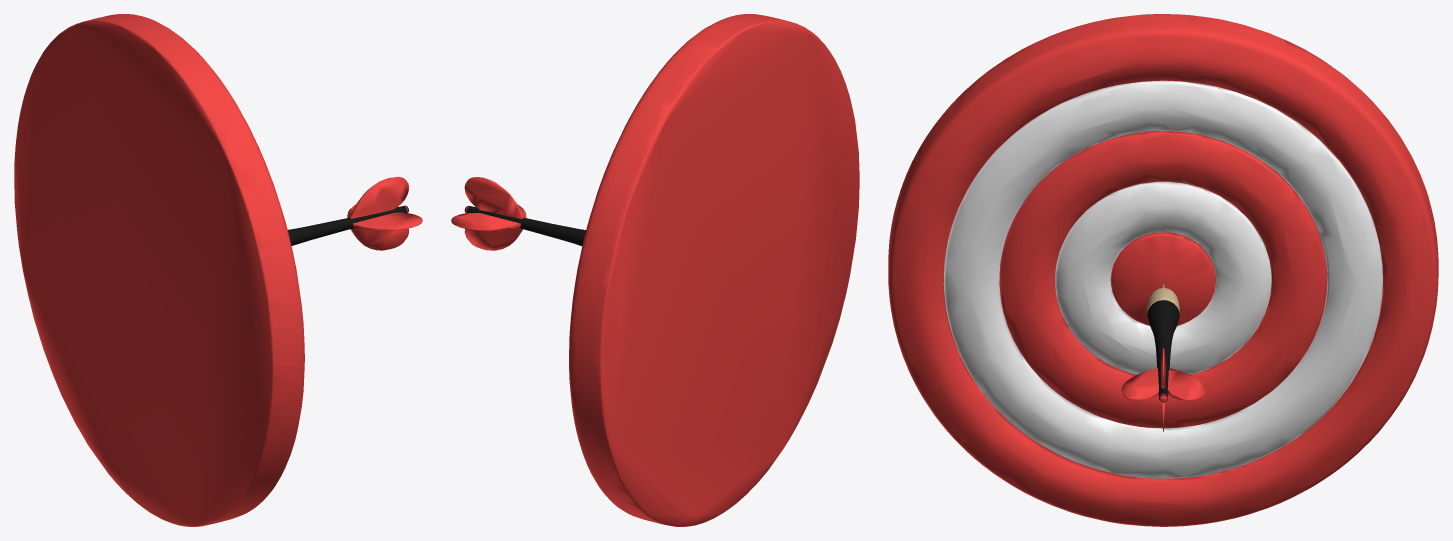
The model's file is target_board.glb.
The picture shows the model from 3 angles, left to right: view 1: azimuth 30°, elevation 25°; view 2: azimuth 150°, elevation 25°; view 3: azimuth 270°, elevation 25°; orthographic projection. The views are drawn at different scales.
Visible parts, largest first — view 1: Cylinder_arrow red_0, Cylinder.001_Material.002_0; view 2: Cylinder_arrow red_0, Cylinder.001_Material.002_0; view 3: Cylinder_arrow red_0, Cylinder_target white_0, Cylinder.001_Material.002_0.
Part boxes in pixels (box(x1,y1,x2,y2)): Cylinder_arrow red_0: box(14, 14, 422, 526); Cylinder.001_Material.002_0: box(288, 206, 408, 245); Cylinder_arrow red_0: box(451, 14, 859, 526); Cylinder.001_Material.002_0: box(465, 206, 585, 246); Cylinder_arrow red_0: box(888, 14, 1438, 526); Cylinder_target white_0: box(943, 80, 1382, 478); Cylinder.001_Material.002_0: box(1147, 300, 1179, 400).
Size of the model in its own units: 1.18 by 1.99 by 1.99.
